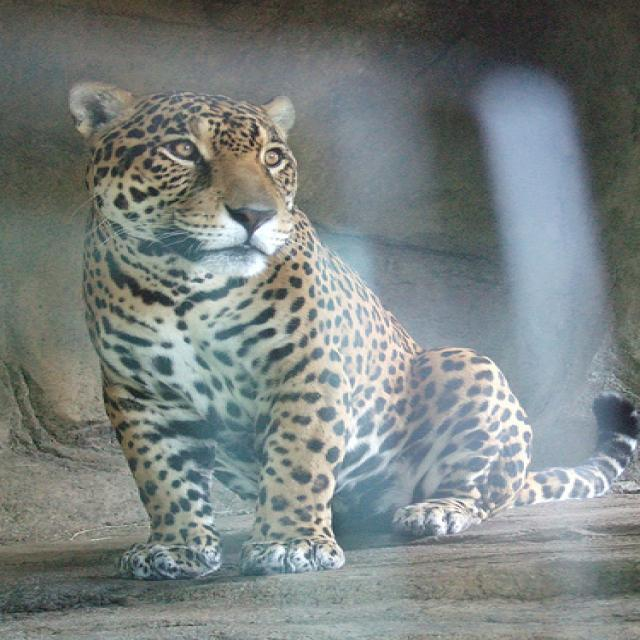Leopard: (58, 75, 631, 582)
